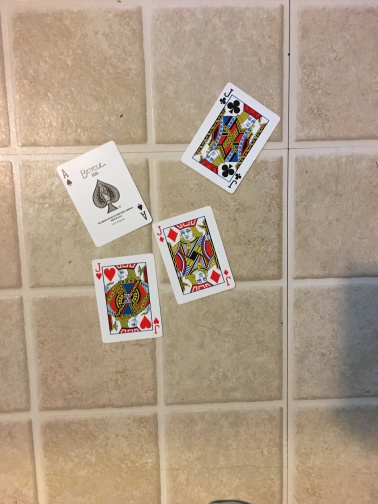ace: (55, 139, 153, 247)
jack: (181, 83, 281, 192), (157, 207, 236, 305), (94, 253, 164, 343)
